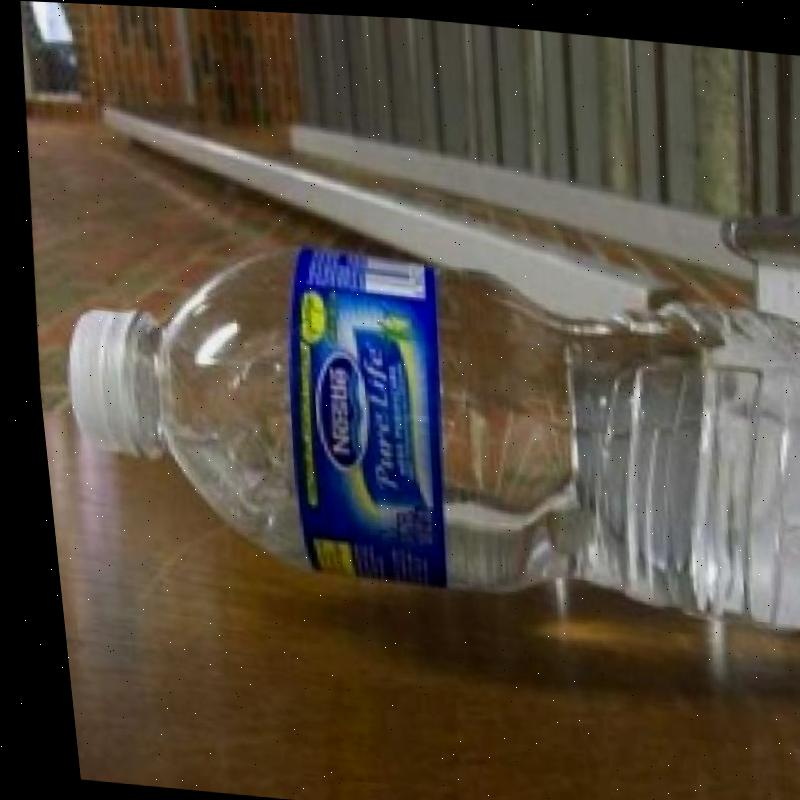botella: (38, 209, 800, 632)
